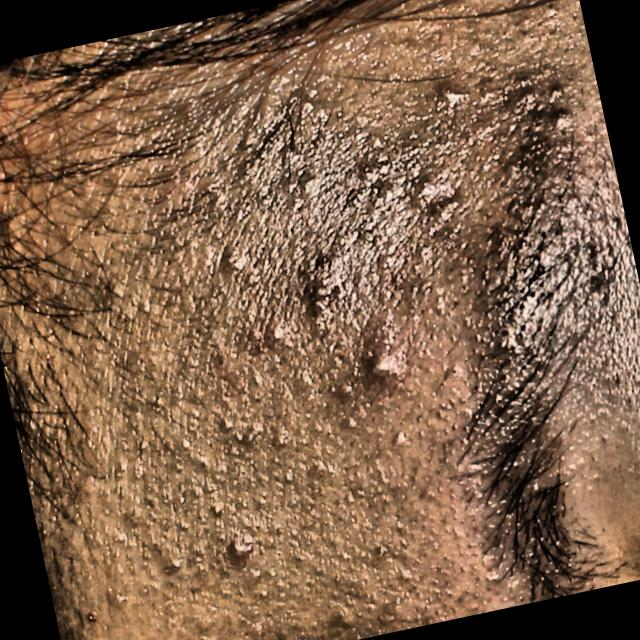whiteheads: (388, 424, 412, 448), (340, 410, 363, 430), (162, 554, 185, 574), (219, 412, 239, 434), (229, 426, 248, 447), (280, 462, 298, 484), (358, 511, 376, 532), (138, 294, 154, 316), (210, 499, 228, 518), (112, 588, 131, 606), (177, 433, 196, 450), (248, 368, 265, 387), (342, 488, 358, 508), (337, 546, 354, 564), (543, 0, 560, 18), (173, 490, 189, 509), (350, 125, 366, 144), (255, 493, 272, 510), (368, 148, 369, 150)
